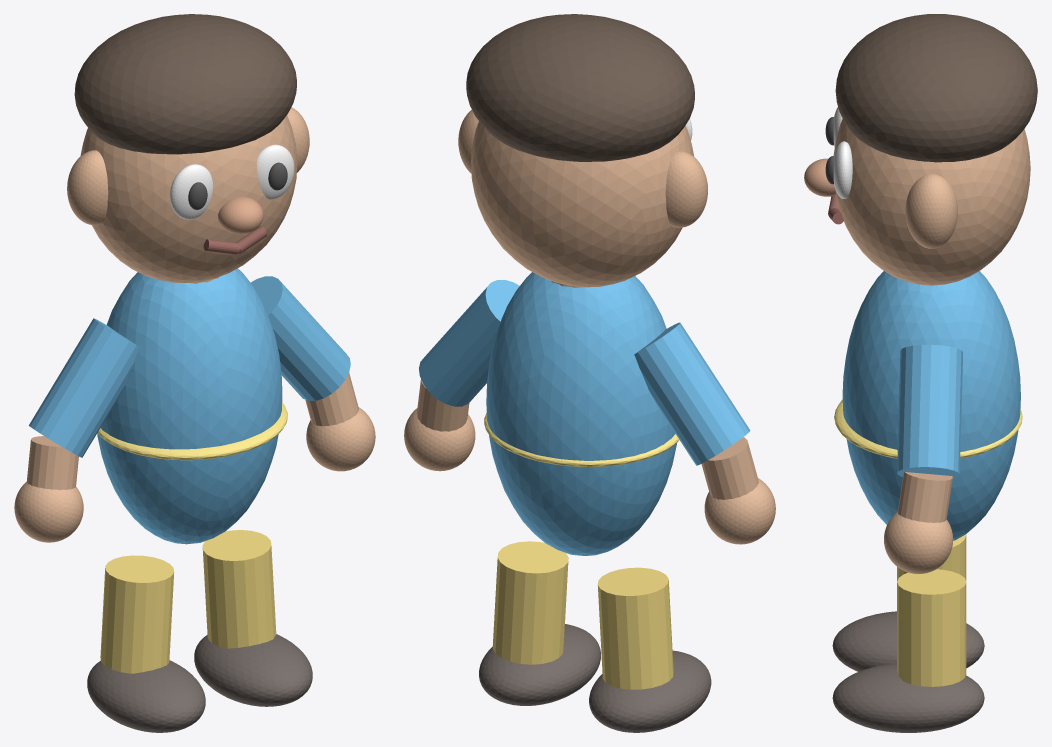
Rendered from chintu.glb.
3 renders of one model, left to right at view 1: azimuth 30°, elevation 25°; view 2: azimuth 150°, elevation 25°; view 3: azimuth 270°, elevation 25°, orthographic. The views are drawn at different scales.
Visible parts, largest first — view 1: Chintu_torso, Chintu_hair, Chintu_head, Chintu_L_upper_arm, Chintu_L_leg, Chintu_R_leg, Chintu_L_shoe, Chintu_R_shoe, Chintu_R_upper_arm, Chintu_L_hand, Chintu_R_hand, Chintu_ear_-1 (+7 smaller); view 2: Chintu_torso, Chintu_hair, Chintu_head, Chintu_L_leg, Chintu_L_upper_arm, Chintu_R_leg, Chintu_R_upper_arm, Chintu_L_shoe, Chintu_R_shoe, Chintu_L_hand, Chintu_R_hand, Chintu_ear_-1 (+4 smaller); view 3: Chintu_torso, Chintu_hair, Chintu_head, Chintu_R_upper_arm, Chintu_R_leg, Chintu_R_shoe, Chintu_L_shoe, Chintu_R_hand, Chintu_ear_1, Chintu_R_forearm, Chintu_belt, Chintu_eye_white_1 (+2 smaller).
Boxes of the visible parts, <box> form: Chintu_torso: <box>97,268,282,544</box>; Chintu_hair: <box>74,14,296,154</box>; Chintu_head: <box>80,115,297,282</box>; Chintu_L_upper_arm: <box>29,318,139,457</box>; Chintu_L_leg: <box>100,555,174,673</box>; Chintu_R_leg: <box>202,530,276,648</box>; Chintu_L_shoe: <box>87,660,205,732</box>; Chintu_R_shoe: <box>194,634,312,706</box>; Chintu_R_upper_arm: <box>250,276,350,400</box>; Chintu_L_hand: <box>14,482,83,542</box>; Chintu_R_hand: <box>306,407,375,471</box>; Chintu_ear_-1: <box>67,150,108,225</box>; Chintu_torso: <box>486,272,676,555</box>; Chintu_hair: <box>466,14,694,161</box>; Chintu_head: <box>471,121,694,287</box>; Chintu_L_leg: <box>597,567,673,689</box>; Chintu_L_upper_arm: <box>634,322,750,465</box>; Chintu_R_leg: <box>492,541,568,664</box>; Chintu_R_upper_arm: <box>419,280,519,406</box>; Chintu_L_shoe: <box>589,650,711,732</box>; Chintu_R_shoe: <box>479,624,600,705</box>; Chintu_L_hand: <box>704,478,775,544</box>; Chintu_R_hand: <box>404,408,475,471</box>; Chintu_ear_-1: <box>665,150,707,227</box>; Chintu_torso: <box>842,271,1020,540</box>; Chintu_hair: <box>835,14,1037,162</box>; Chintu_head: <box>833,119,1030,285</box>; Chintu_R_upper_arm: <box>897,344,962,478</box>; Chintu_R_leg: <box>897,569,966,686</box>; Chintu_R_shoe: <box>832,663,984,732</box>; Chintu_L_shoe: <box>832,611,984,671</box>; Chintu_R_hand: <box>884,512,953,574</box>; Chintu_ear_1: <box>905,174,957,248</box>; Chintu_R_forearm: <box>897,472,952,522</box>; Chintu_belt: <box>834,399,1022,458</box>; Chintu_eye_white_1: <box>833,141,852,198</box>.
Size of the model in its own units: 1.23 by 2.23 by 0.7072.
